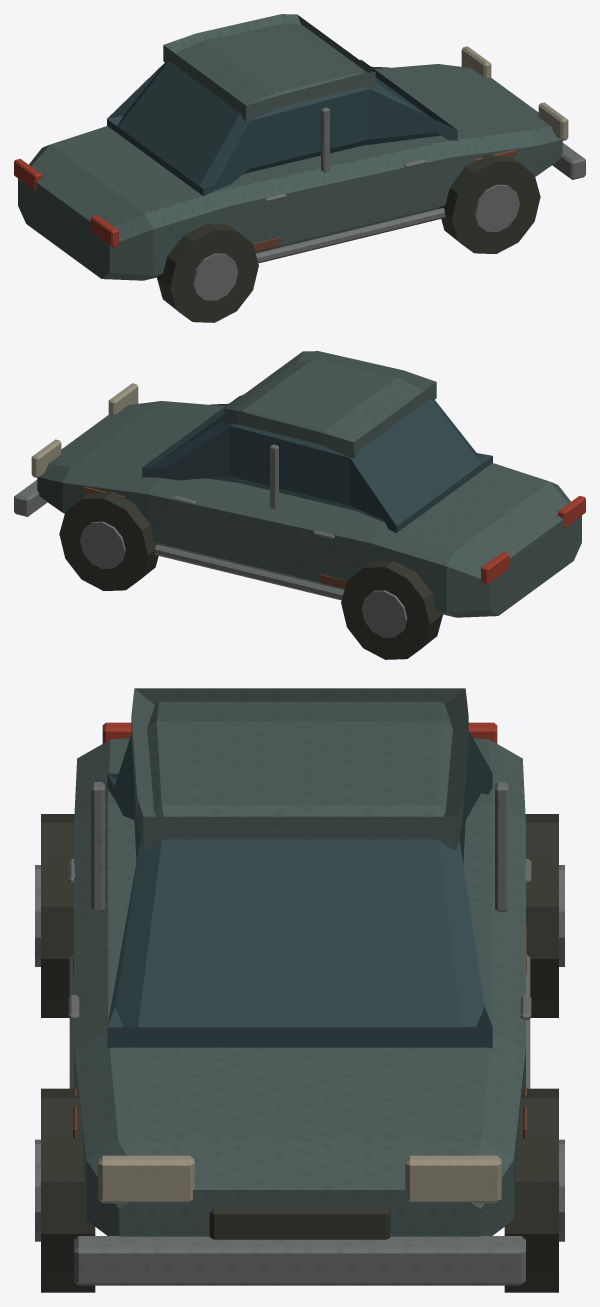
Rendered from abandoned_car.glb.
The picture shows the model from 3 angles, top to bottom: view 1: azimuth 30°, elevation 25°; view 2: azimuth 150°, elevation 25°; view 3: azimuth 270°, elevation 25°; orthographic projection. The views are drawn at different scales.
Parts seen in each view (by area): view 1: DD_abandoned_car; view 2: DD_abandoned_car; view 3: DD_abandoned_car.
Boxes of the visible parts, x1,y1,x2,y2 form: DD_abandoned_car: [14, 14, 585, 322]; DD_abandoned_car: [14, 351, 585, 659]; DD_abandoned_car: [35, 688, 564, 1292].
Size of the model in its own units: 3.59 by 1.39 by 1.76.
Materials: 7 (5 with a texture image).
